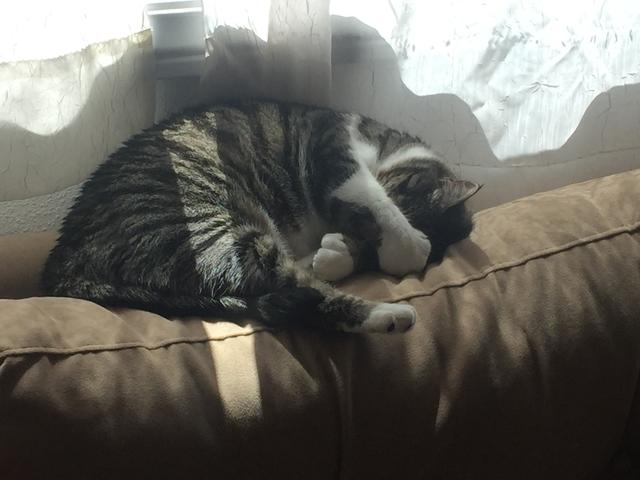playdoh: (35, 91, 483, 333)
